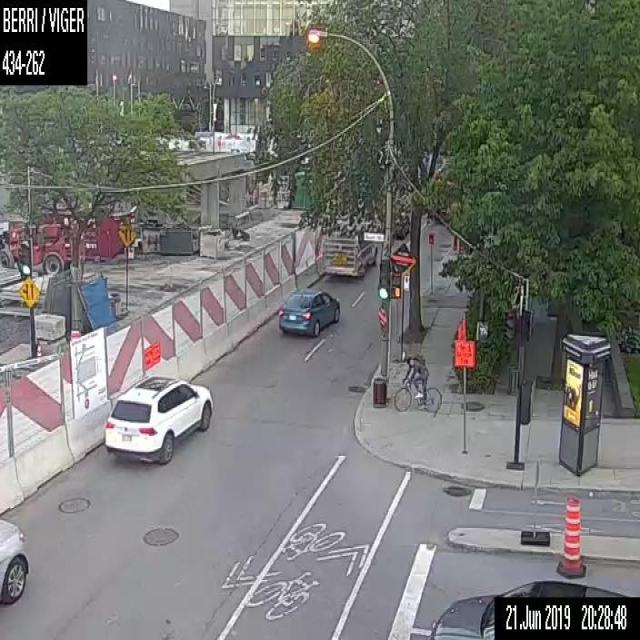construction: (452, 327, 479, 453), (556, 492, 586, 577), (70, 327, 81, 339)
cyclist: (393, 352, 442, 412)
vehicle: (432, 577, 631, 639), (102, 372, 212, 464), (274, 284, 341, 336), (318, 228, 378, 276), (0, 515, 29, 604)
